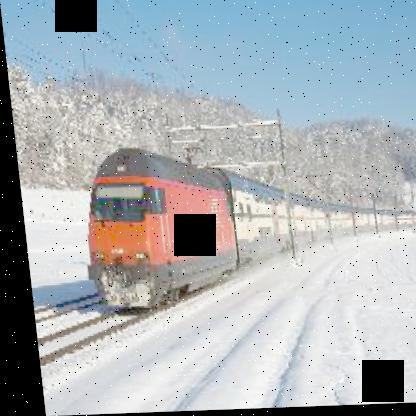not_emergency: (55, 130, 415, 292)
